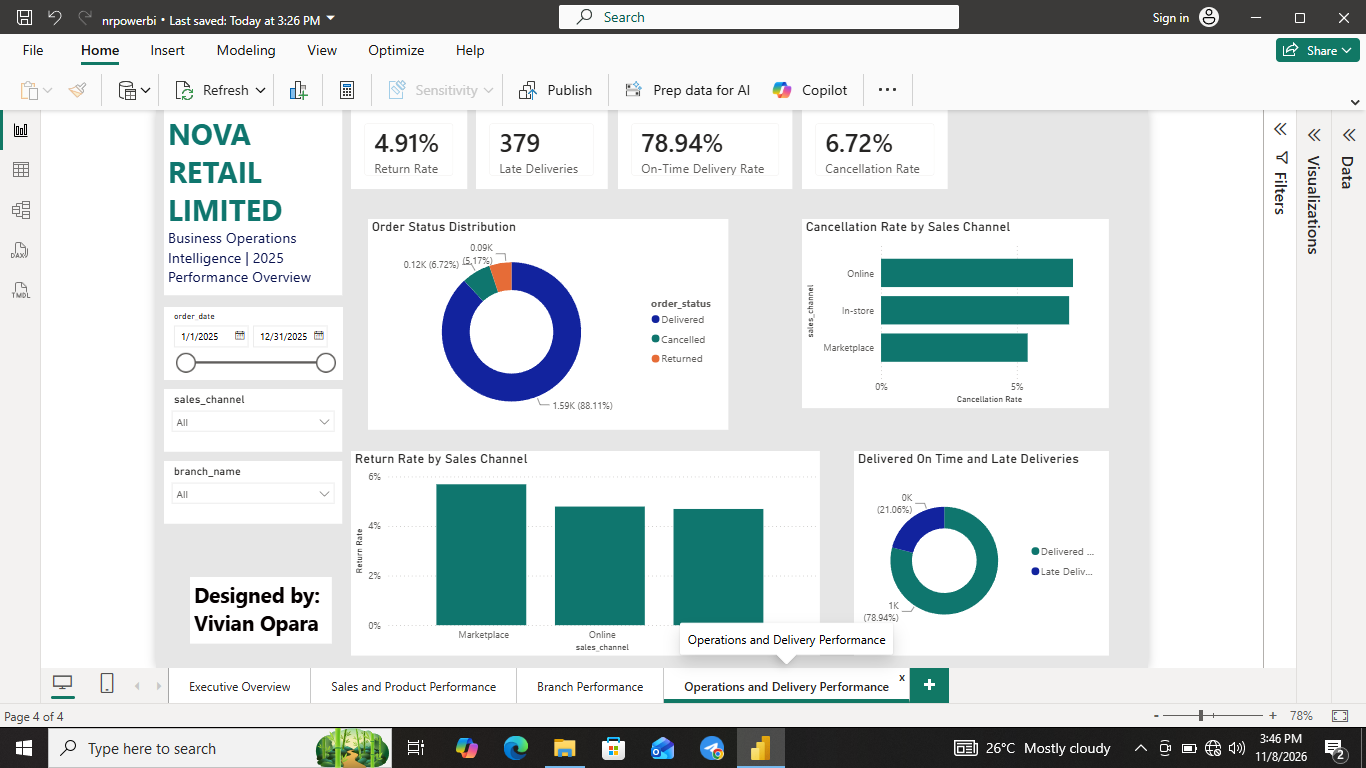

This screenshot's page, from the dashboard's own definition file:
{"tool":"powerbi","page":{"name":"Operations and Delivery Performance","canvas":[1280,720],"ordinal":3},"visuals":[{"type":"textbox","box":[10.1,0,230.1,238.5],"z":0},{"type":"slicer","fields":{"Values":["nrorderscsv.order_date"]},"box":[10.1,253.6,230.1,94.1],"z":1000},{"type":"slicer","fields":{"Values":["nrorderscsv.sales_channel"]},"box":[10.1,359.5,230.1,80.6],"z":2000},{"type":"slicer","fields":{"Values":["nrbranchescsv.branch_name"]},"box":[10.1,453.5,230.1,80.6],"z":3000},{"type":"cardVisual","fields":{"Data":["nrorderscsv.Cancellation Rate"]},"box":[833.2,0,188.1,102.5],"z":4000},{"type":"cardVisual","fields":{"Data":["nrorderscsv.Return Rate"]},"box":[252,0,149.5,102.5],"z":5000},{"type":"cardVisual","fields":{"Data":["nrorderscsv.On-Time Delivery Rate"]},"box":[596.3,0,225.1,102.5],"z":6000},{"type":"cardVisual","fields":{"Data":["nrorderscsv.Late Deliveries"]},"box":[413.2,0,169.7,102.5],"z":7000},{"type":"donutChart","title":"Order Status Distribution","fields":{"Category":["nrorderscsv.order_status"],"Y":["CountNonNull(nrorderscsv.order_id)"]},"box":[273.8,141.1,465.3,272.1],"z":8000},{"type":"clusteredBarChart","title":"Cancellation Rate by Sales Channel","fields":{"Category":["nrorderscsv.sales_channel"],"Y":["nrorderscsv.Cancellation Rate"]},"box":[833.2,141.1,396.4,243.6],"z":9000},{"type":"clusteredColumnChart","title":"Return Rate by Sales Channel","fields":{"Category":["nrorderscsv.sales_channel"],"Y":["nrorderscsv.Return Rate"]},"box":[252,440.1,604.7,263.7],"z":10000},{"type":"donutChart","fields":{"Y":["nrorderscsv.Delivered On Time","nrorderscsv.Late Deliveries"]},"box":[900,440,329,264],"z":11000},{"type":"textbox","box":[43.7,603,183.1,85.7],"z":12000}]}

Visuals, with their boxes on the page's 1280x720 design canvas (x1, y1, x2, y2). These are canvas units, not pixel positions in the 1366x768 screenshot, which may show the page scaled, cropped or inside an application window:
textbox: pyautogui.locateOnScreen(10, 0, 240, 238)
slicer - nrorderscsv.order_date: pyautogui.locateOnScreen(10, 254, 240, 348)
slicer - nrorderscsv.sales_channel: pyautogui.locateOnScreen(10, 360, 240, 440)
slicer - nrbranchescsv.branch_name: pyautogui.locateOnScreen(10, 454, 240, 534)
cardVisual - nrorderscsv.Cancellation Rate: pyautogui.locateOnScreen(833, 0, 1021, 102)
cardVisual - nrorderscsv.Return Rate: pyautogui.locateOnScreen(252, 0, 402, 102)
cardVisual - nrorderscsv.On-Time Delivery Rate: pyautogui.locateOnScreen(596, 0, 821, 102)
cardVisual - nrorderscsv.Late Deliveries: pyautogui.locateOnScreen(413, 0, 583, 102)
"Order Status Distribution" donutChart: pyautogui.locateOnScreen(274, 141, 739, 413)
"Cancellation Rate by Sales Channel" clusteredBarChart: pyautogui.locateOnScreen(833, 141, 1230, 385)
"Return Rate by Sales Channel" clusteredColumnChart: pyautogui.locateOnScreen(252, 440, 857, 704)
donutChart - nrorderscsv.Delivered On Time x nrorderscsv.Late Deliveries: pyautogui.locateOnScreen(900, 440, 1229, 704)
textbox: pyautogui.locateOnScreen(44, 603, 227, 689)
